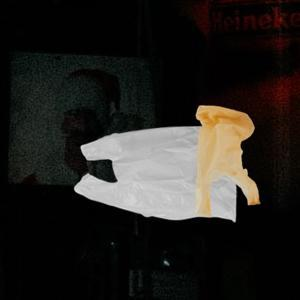plastic_bag: (73, 124, 242, 225), (192, 98, 263, 223)
